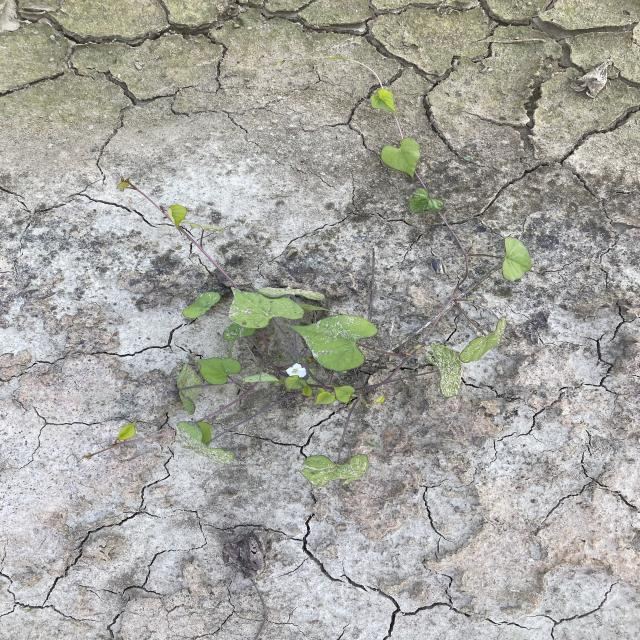MorningGlory: (75, 51, 535, 490)
